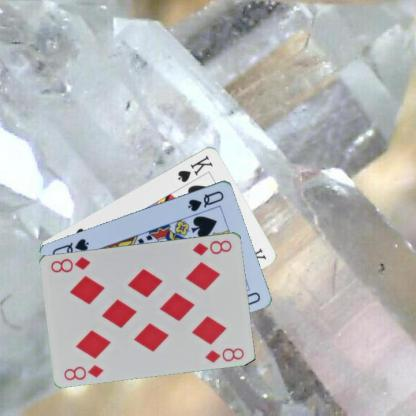8d: (61, 362, 105, 381), (190, 238, 233, 256)
Ks: (175, 153, 214, 183)
Qs: (185, 188, 225, 212)
